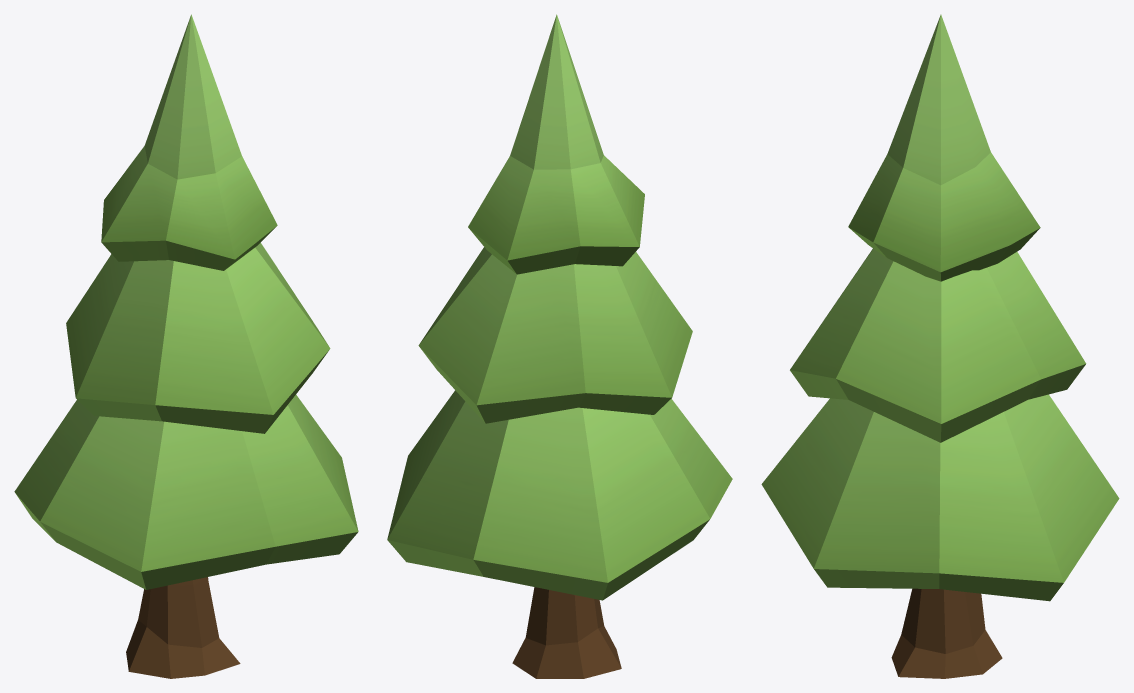
Rendered from pack01_foliage_08.fbx.
3 views of the same model, side by side, from view 1: azimuth 30°, elevation 25°; view 2: azimuth 150°, elevation 25°; view 3: azimuth 270°, elevation 25° (orthographic).
Parts seen in each view (by area): view 1: Tree_Spruce_tiny_01; view 2: Tree_Spruce_tiny_01; view 3: Tree_Spruce_tiny_01.
Boxes of the visible parts, x1,y1,x2,y2 form: Tree_Spruce_tiny_01: (14, 14, 358, 678); Tree_Spruce_tiny_01: (387, 14, 732, 678); Tree_Spruce_tiny_01: (761, 14, 1119, 678).
Size of the model in its own units: 543 by 1101 by 550.
1 material, 1 textured.
